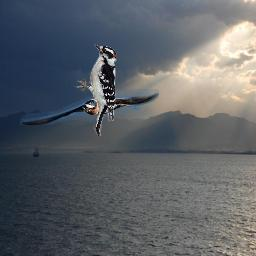Swallow: (20, 89, 159, 125)
Woodpecker: (74, 43, 118, 136)
